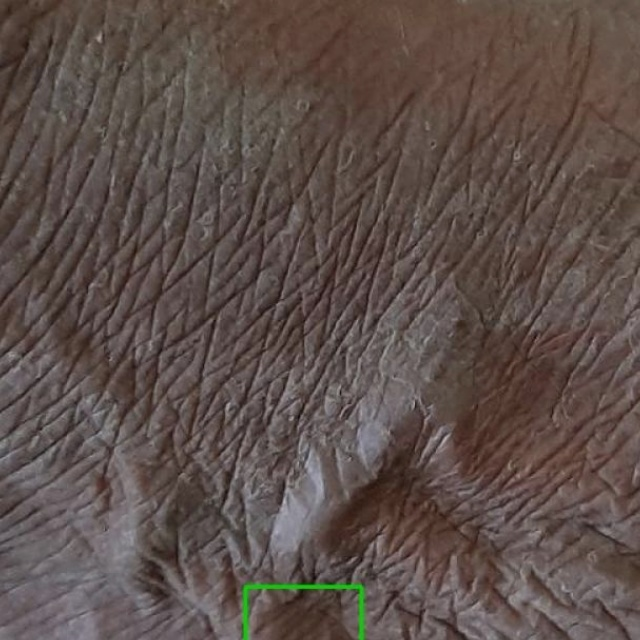Eczema: (245, 586, 361, 639)
